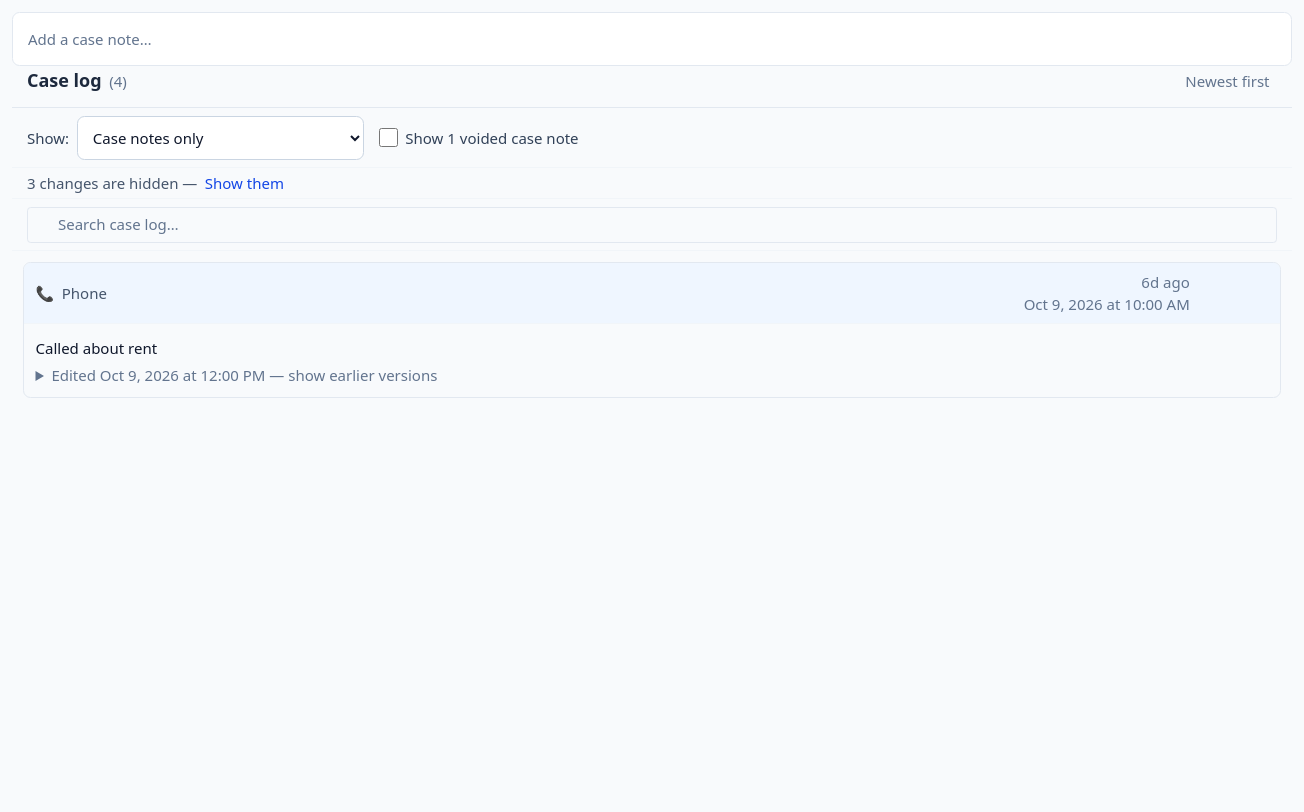
Test: one log › shows voided notes, crossed out with the reason, on request
The image size is (1304, 812).
Expected: the text "Called about rent" is shown, x1=36 y1=338 x2=157 y2=358
Expected: the text "Wrong person" is not shown
Click the checkbox labelled "Show 1 voided case note" at {"x": 388, "y": 138}, box x1=379 y1=128 x2=398 y2=147
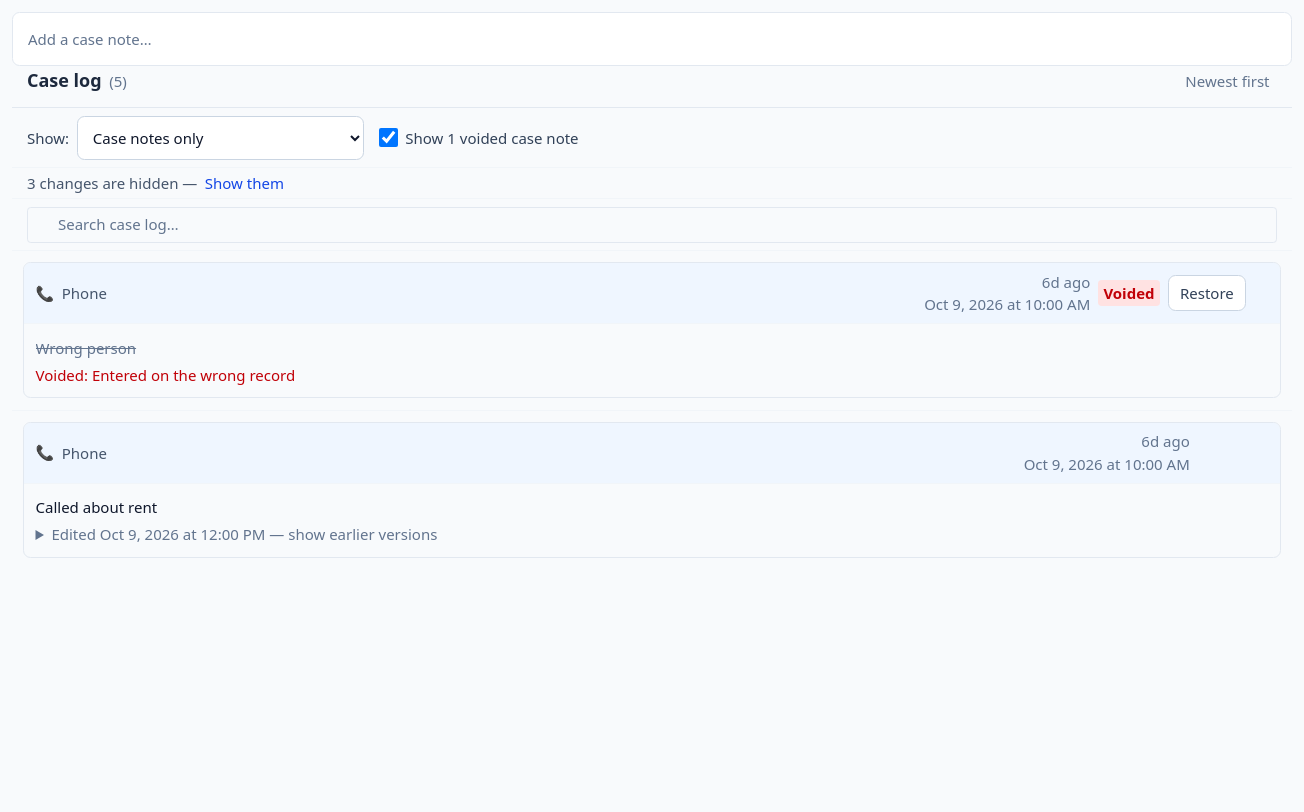
Now the text "Wrong person" is shown, box x1=36 y1=338 x2=136 y2=358
Now the text "Voided: Entered on the wrong record" is shown, box x1=36 y1=365 x2=295 y2=385
